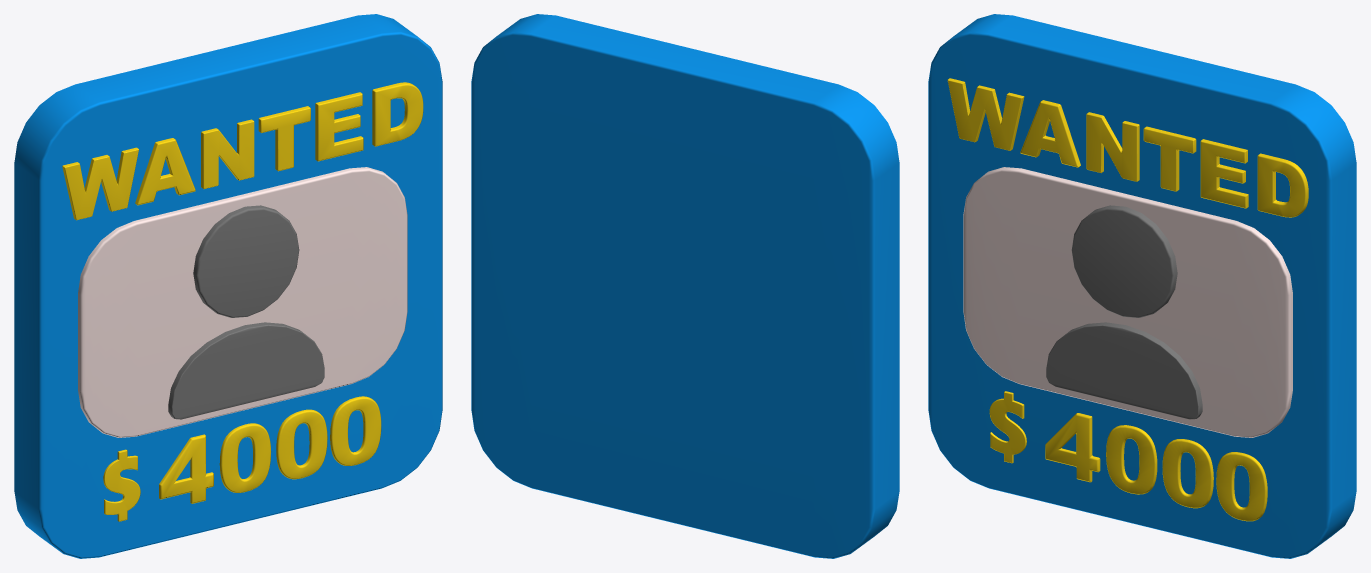
The model's file is Public_16_Poster_Wanted_4.glb.
3 renders of one model, left to right at view 1: azimuth 30°, elevation 25°; view 2: azimuth 150°, elevation 25°; view 3: azimuth 330°, elevation 25°, orthographic.
Visible parts, largest first — view 1: Public_16_Poster_Wanted_4; view 2: Public_16_Poster_Wanted_4; view 3: Public_16_Poster_Wanted_4.
Boxes of the visible parts, box(x1,y1,x2,y2) form: Public_16_Poster_Wanted_4: box(14, 14, 442, 558); Public_16_Poster_Wanted_4: box(471, 14, 899, 558); Public_16_Poster_Wanted_4: box(928, 14, 1356, 558).
Bounding box in the file's own units: 1.02 × 1.1 × 0.1471.
Materials: 1 (1 with a texture image).
